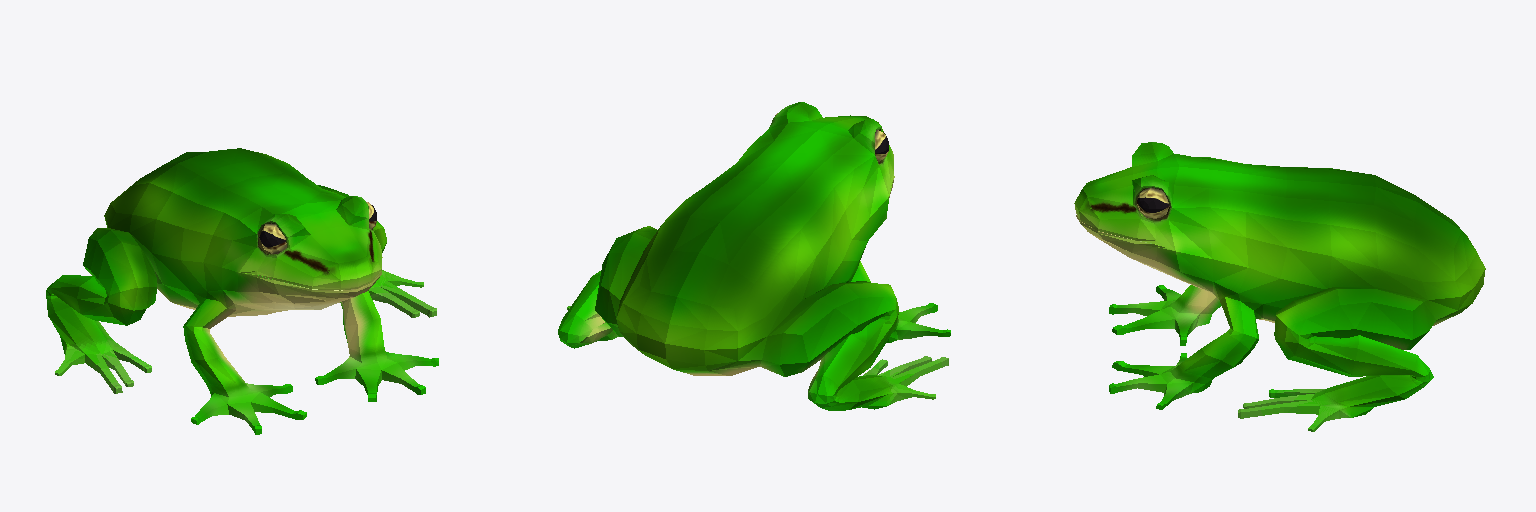
The picture shows the model from 3 angles: view 1: azimuth 30°, elevation 25°; view 2: azimuth 150°, elevation 25°; view 3: azimuth 270°, elevation 25°; orthographic projection.
Bounding box in the file's own units: 3.64 × 1.83 × 3.51.
2 materials, 2 textured.